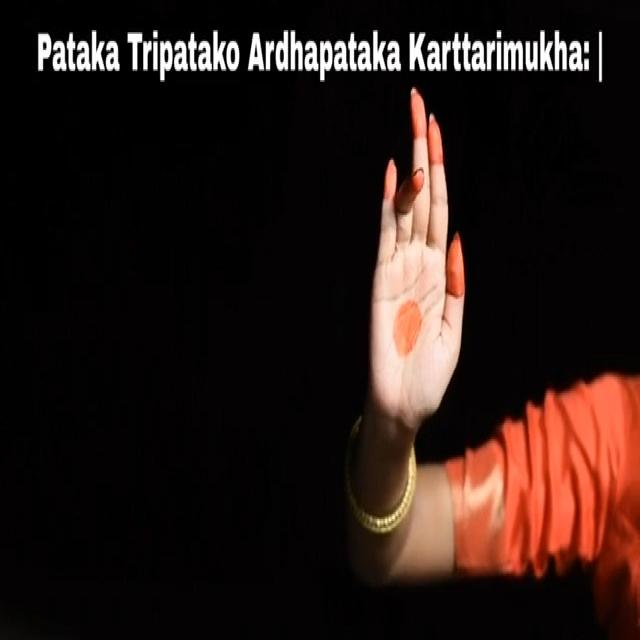Tripataka: (353, 79, 472, 580)
bangle: (339, 458, 431, 540)
text: (31, 20, 612, 90)
